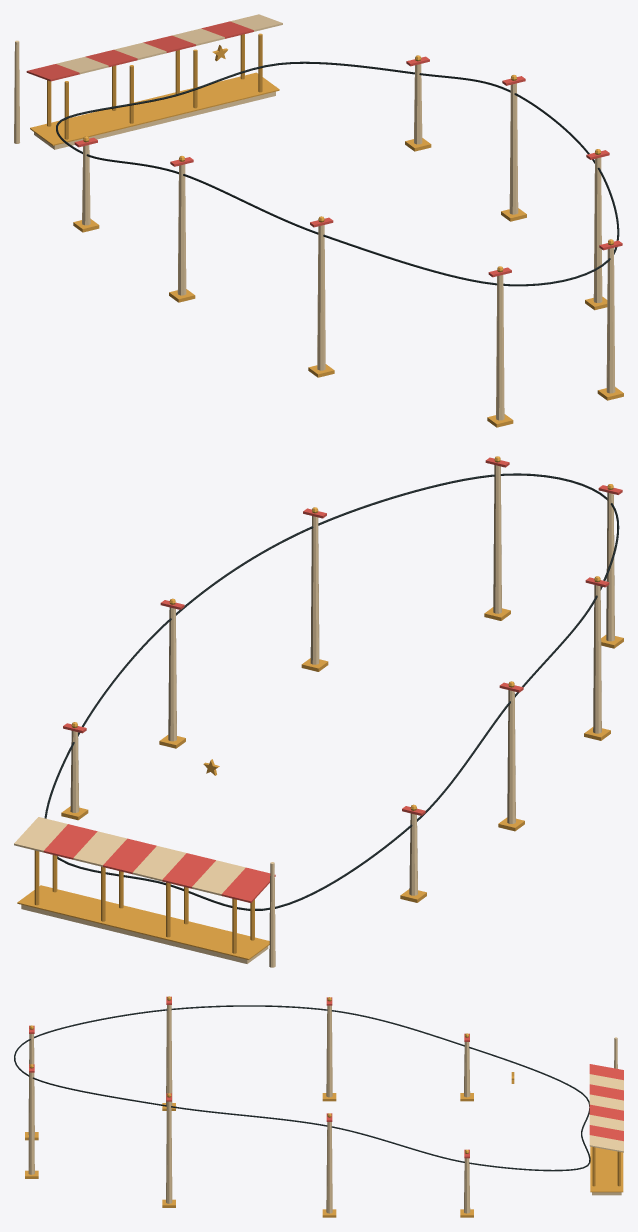
File: ParkParkSkyTrack.obj
3 renders of one model, top to bottom at view 1: azimuth 30°, elevation 25°; view 2: azimuth 150°, elevation 25°; view 3: azimuth 270°, elevation 25°, orthographic. The views are drawn at different scales.
Visible parts, largest first — view 1: ParkParkSkyTrack; view 2: ParkParkSkyTrack; view 3: ParkParkSkyTrack.
Boxes of the visible parts, x1,y1,x2,y2 form: ParkParkSkyTrack: [14, 14, 623, 427]; ParkParkSkyTrack: [14, 456, 623, 967]; ParkParkSkyTrack: [14, 996, 623, 1217].
Size of the model in its own units: 25.4 by 10.77 by 53.25.
